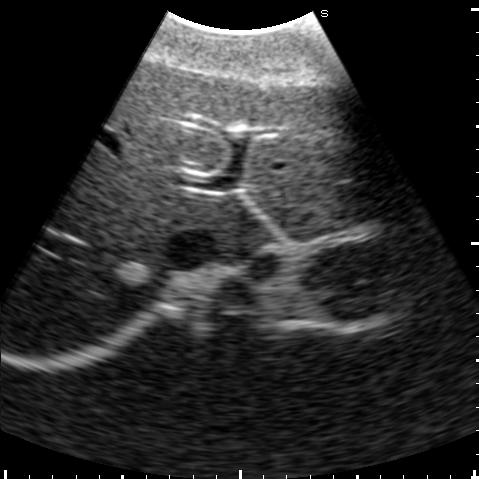IVC: (161, 227, 216, 268)
S1: (213, 196, 276, 259)
S2: (245, 183, 418, 243)
S3: (238, 81, 408, 212)
